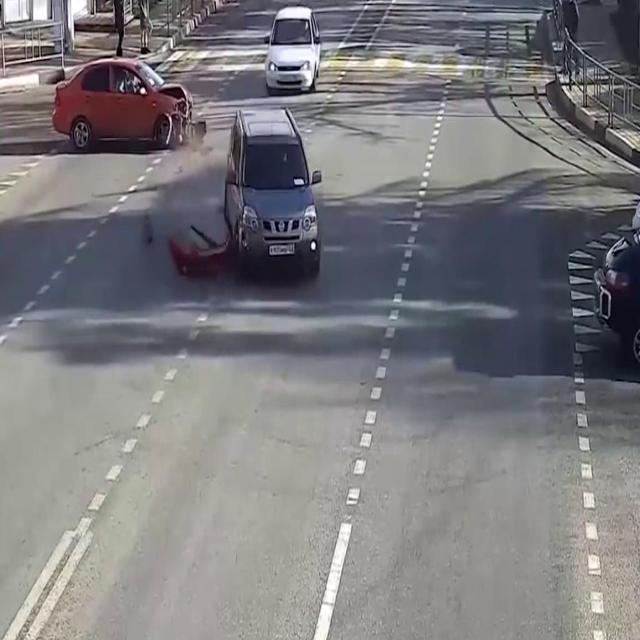accident: (172, 98, 331, 295), (42, 45, 214, 157)
